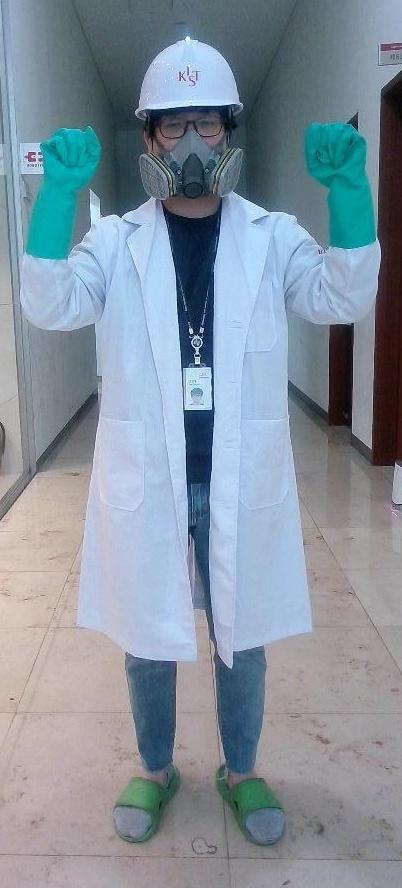lab_coat: (84, 204, 304, 644)
